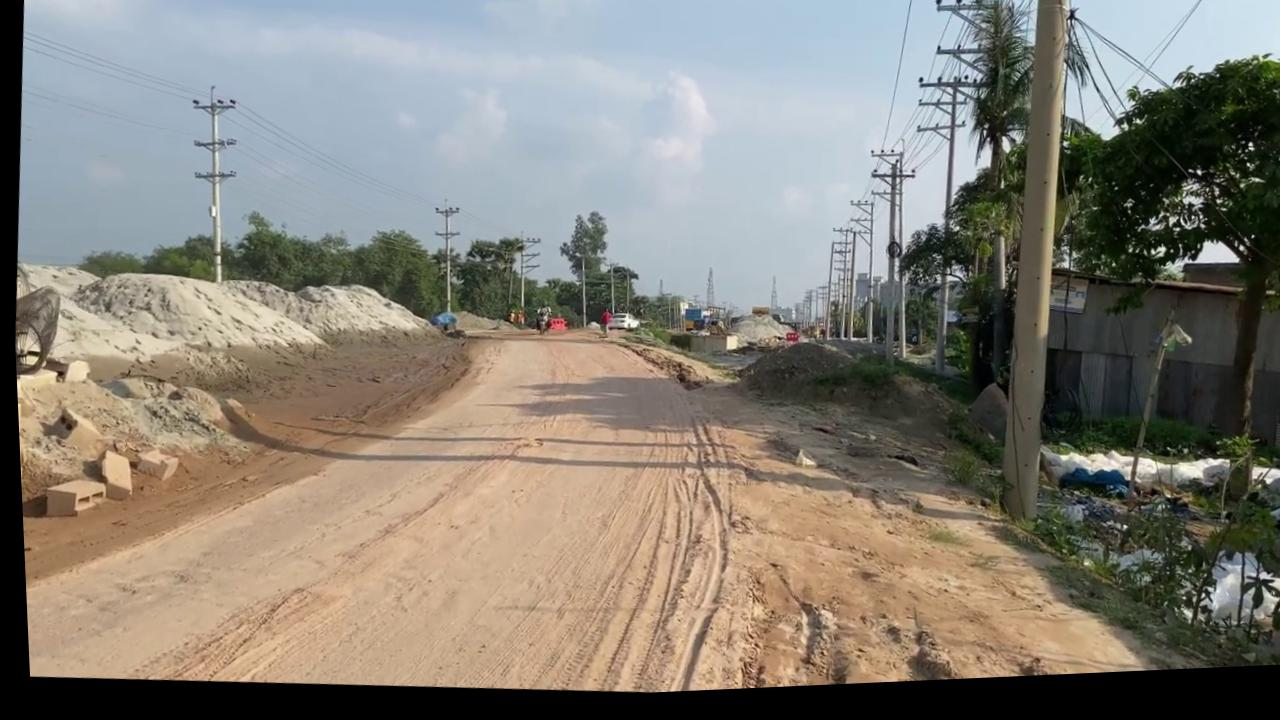Car: (602, 316, 637, 337)
Motorcycle: (529, 315, 546, 340)
Muddy road: (11, 263, 1275, 720)
Obstacle: (662, 307, 736, 363), (37, 475, 102, 519), (663, 331, 734, 363), (93, 449, 131, 502), (130, 446, 175, 484)
Pole: (974, 0, 1090, 536), (853, 154, 920, 375), (177, 83, 244, 285)
Traffic-sign: (549, 212, 610, 335)
Tree: (502, 309, 565, 339), (675, 307, 724, 342), (530, 318, 564, 337), (504, 313, 522, 331)
Upstairs: (964, 260, 1280, 471)
